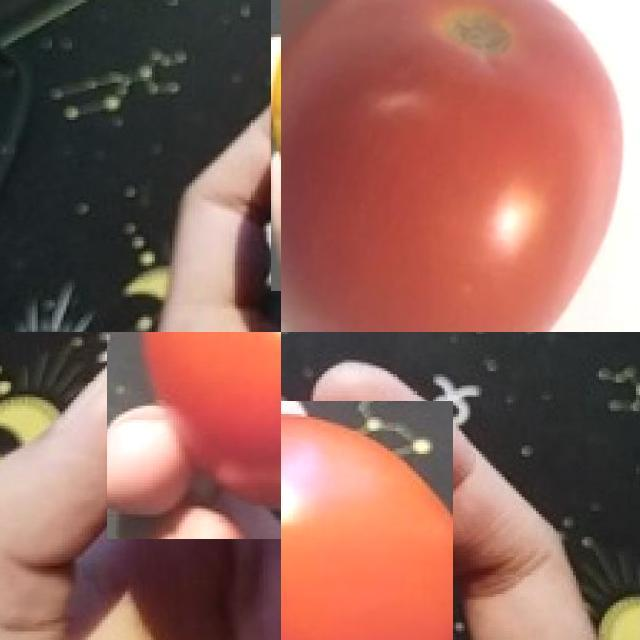Fresh Tomato: (281, 0, 640, 332), (281, 401, 453, 640), (107, 332, 281, 539)
